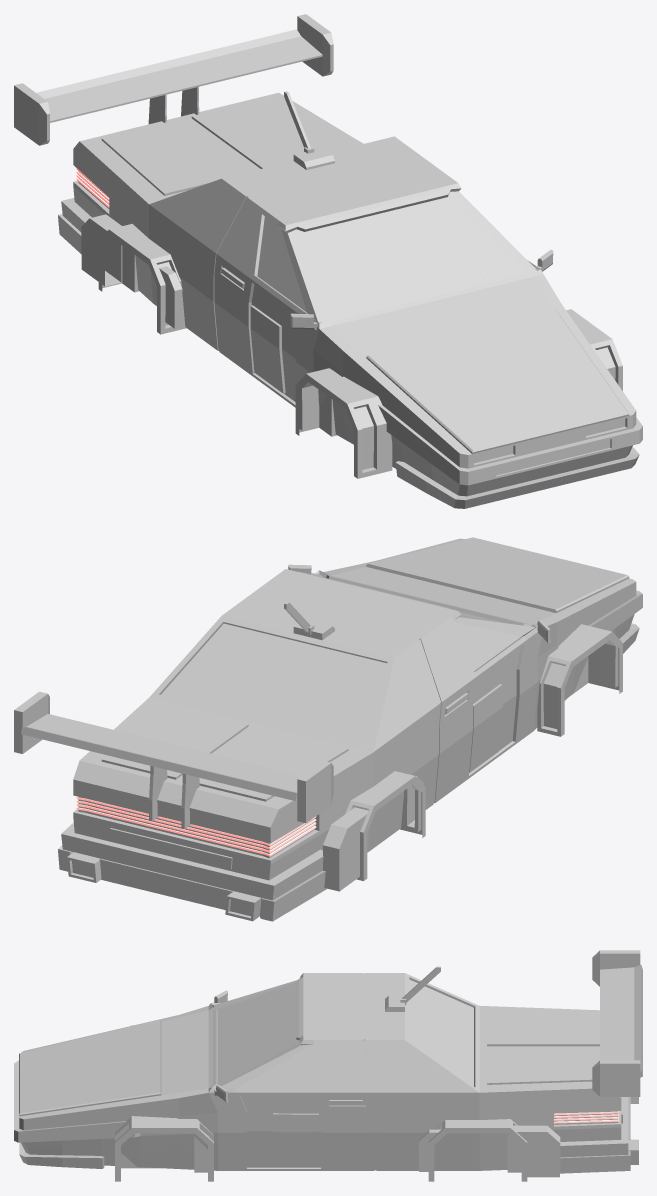
Rendered from EnemyVehicle.fbx.
3 renders of one model, top to bottom at view 1: azimuth 30°, elevation 25°; view 2: azimuth 150°, elevation 25°; view 3: azimuth 270°, elevation 25°, orthographic. The views are drawn at different scales.
Visible parts, largest first — view 1: Cube.077, Cube.107, Cube.079, Cube.082, Cube.083, Cube.078; view 2: Cube.077, Cube.107, Cube.079, Cube.083, Cube.082, Cube.085, Cube.078; view 3: Cube.077, Cube.107, Cube.079, Cube.083, Cube.082, Cube.085, Cube.084.
Part boxes in pixels (x1,y1,x2,y2): Cube.077: [58, 92, 642, 508]; Cube.107: [257, 197, 520, 321]; Cube.079: [14, 14, 333, 145]; Cube.082: [295, 309, 622, 478]; Cube.083: [81, 214, 186, 334]; Cube.078: [148, 87, 199, 124]; Cube.077: [58, 537, 642, 921]; Cube.107: [165, 612, 535, 744]; Cube.079: [14, 691, 333, 823]; Cube.083: [323, 771, 425, 891]; Cube.082: [537, 624, 622, 736]; Cube.085: [76, 796, 316, 856]; Cube.078: [149, 766, 199, 829]; Cube.077: [14, 973, 638, 1173]; Cube.107: [218, 982, 473, 1088]; Cube.079: [592, 950, 642, 1096]; Cube.083: [418, 1119, 560, 1181]; Cube.082: [115, 1025, 213, 1181]; Cube.085: [554, 1111, 619, 1123]; Cube.084: [400, 966, 440, 1005].
Size of the model in its own units: 370 by 248 by 869.
